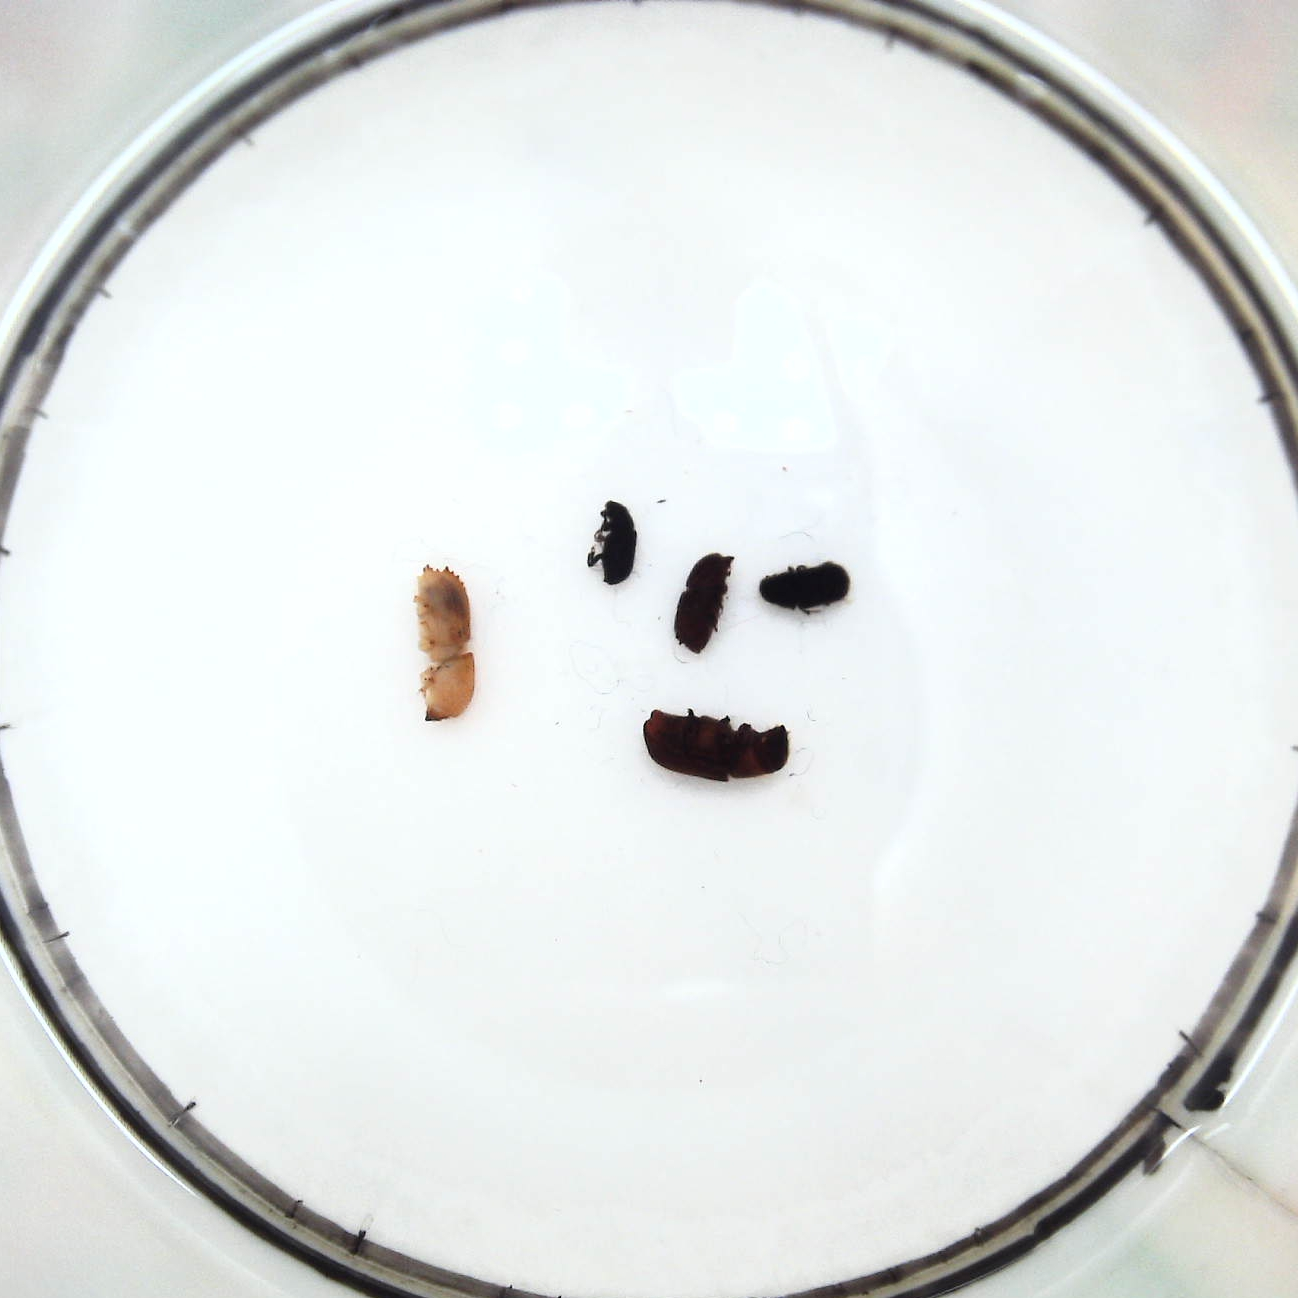Boerner: (408, 563, 484, 725)
Leconte: (643, 706, 790, 788)
Linnaeus: (672, 554, 735, 654)
armandi: (754, 561, 853, 613)
coleoptera: (590, 500, 641, 588)
